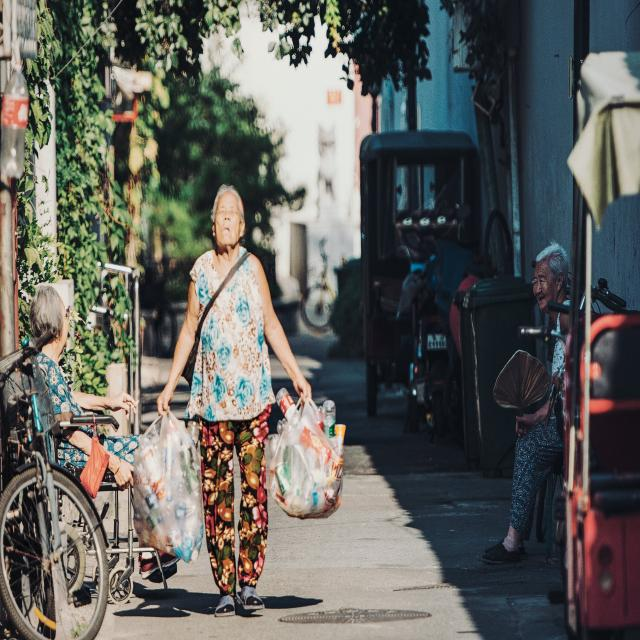trash: (270, 399, 338, 512), (140, 436, 197, 544)
